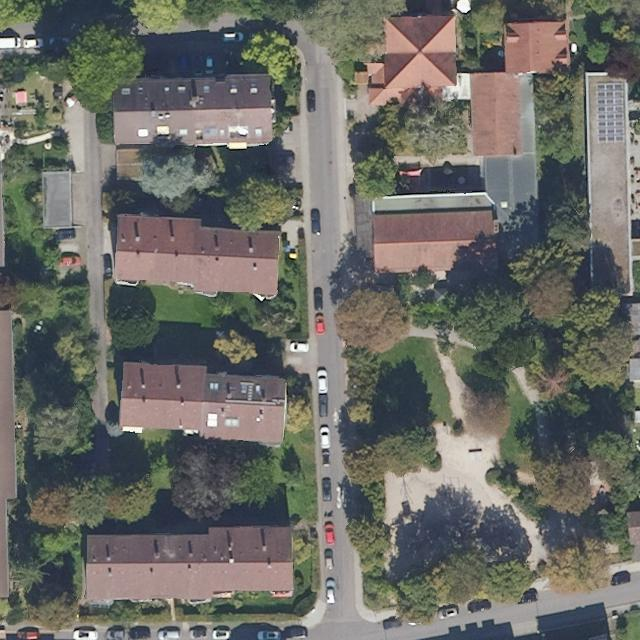PV: (596, 78, 626, 142), (206, 412, 217, 427)
